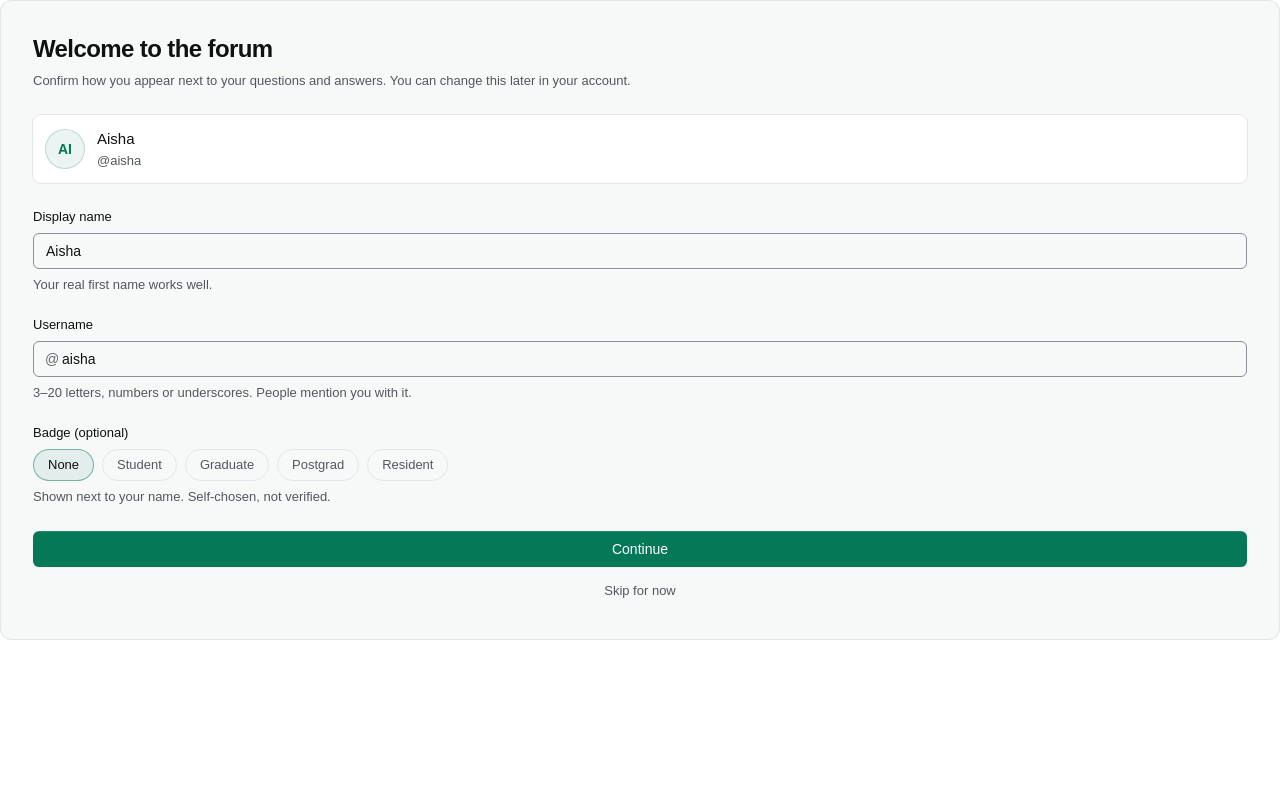
Scenario: WelcomeForm › shows other errors as an alert without flagging the username
Click the button "Continue": x=640, y=549 [33,531,1247,567]
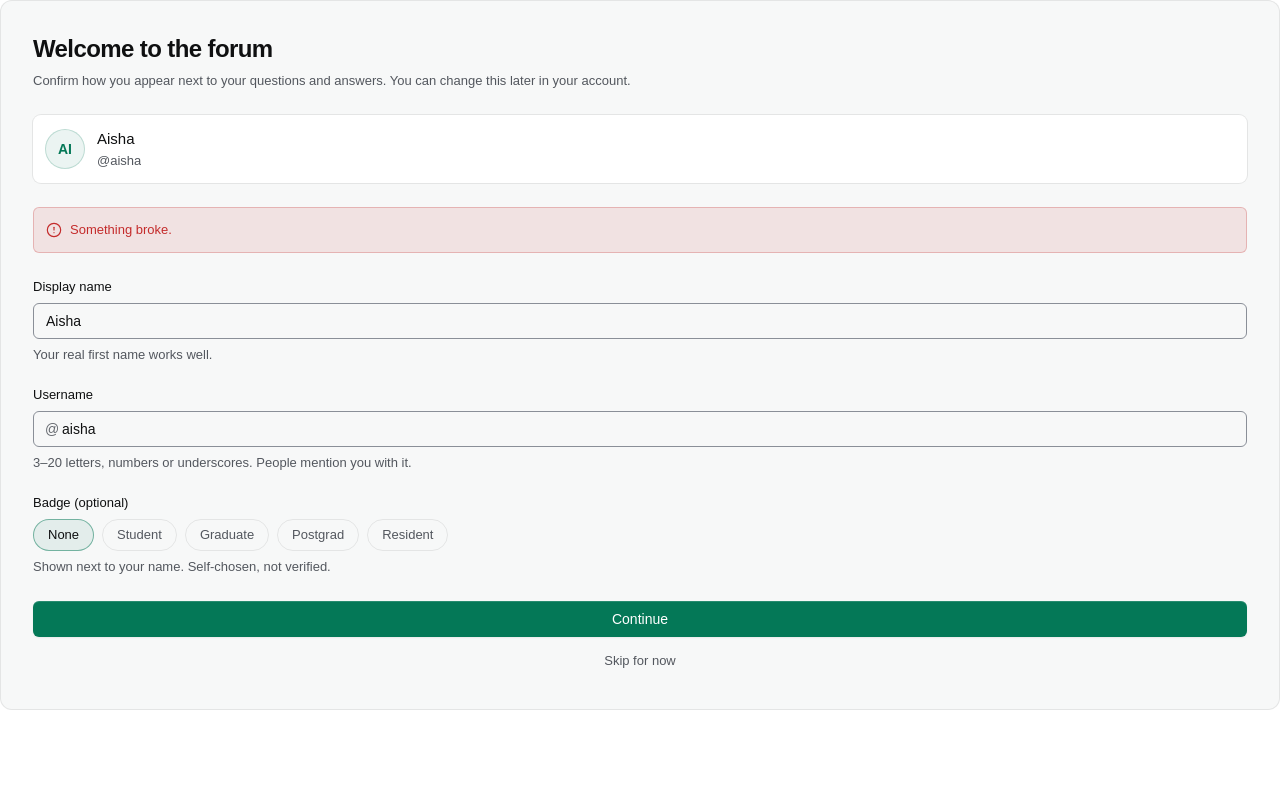
Expected: the message reads "Something broke.", [70,222,172,237]
